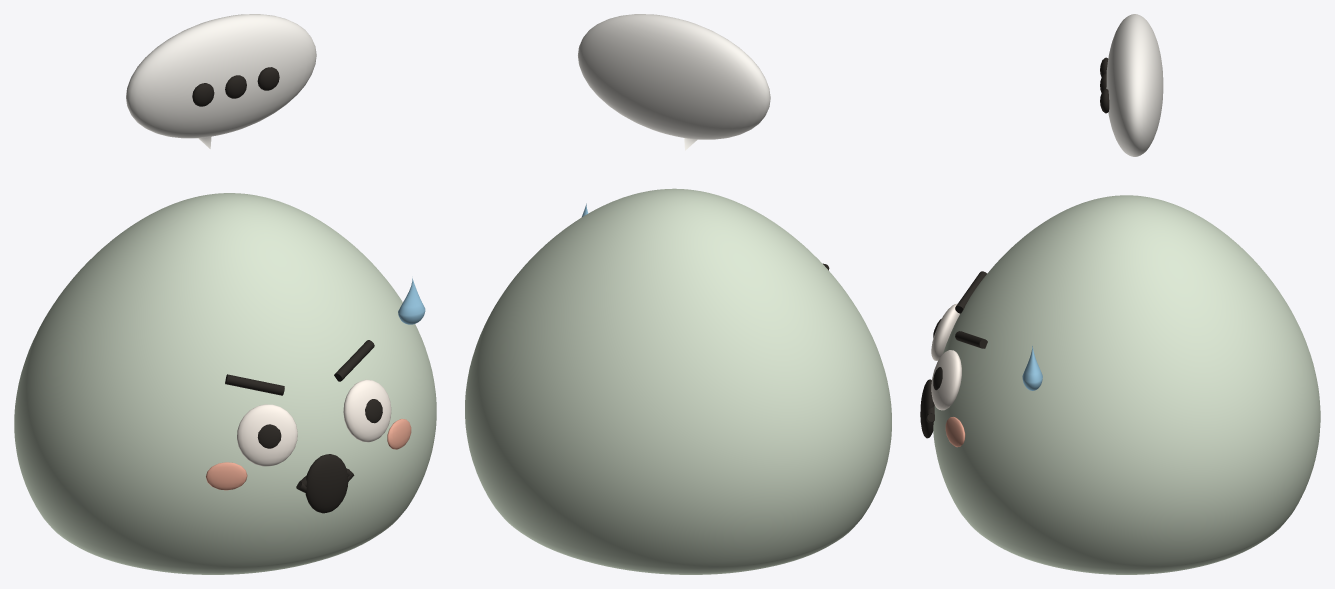
The model's file is Messages.glb.
3 renders of one model, left to right at view 1: azimuth 30°, elevation 25°; view 2: azimuth 150°, elevation 25°; view 3: azimuth 270°, elevation 25°, orthographic. The views are drawn at different scales.
Visible parts, largest first — view 1: Messages_Body, Messages_Bubble, Messages_EyeWide_L, Messages_EyeWide_R, Messages_MouthOpen, Messages_Cheek_L, Messages_Sweat, Messages_Brow_L, Messages_Cheek_R; view 2: Messages_Body, Messages_Bubble; view 3: Messages_Body, Messages_Bubble, Messages_EyeWide_R, Messages_EyeWide_L, Messages_MouthOpen, Messages_Sweat.
Part boxes in pixels (x1=…): Messages_Body: x1=14, y1=193, x2=436, y2=574; Messages_Bubble: x1=126, y1=14, x2=316, y2=138; Messages_EyeWide_L: x1=237, y1=404, x2=297, y2=466; Messages_EyeWide_R: x1=343, y1=379, x2=391, y2=442; Messages_MouthOpen: x1=305, y1=454, x2=348, y2=513; Messages_Cheek_L: x1=206, y1=462, x2=247, y2=490; Messages_Sweat: x1=398, y1=278, x2=425, y2=324; Messages_Brow_L: x1=225, y1=374, x2=284, y2=395; Messages_Cheek_R: x1=387, y1=419, x2=411, y2=449; Messages_Body: x1=465, y1=188, x2=891, y2=574; Messages_Bubble: x1=578, y1=14, x2=770, y2=139; Messages_Body: x1=933, y1=195, x2=1320, y2=574; Messages_Bubble: x1=1106, y1=14, x2=1163, y2=156; Messages_EyeWide_R: x1=931, y1=350, x2=961, y2=410; Messages_EyeWide_L: x1=931, y1=303, x2=959, y2=360; Messages_MouthOpen: x1=920, y1=379, x2=934, y2=438; Messages_Sweat: x1=1022, y1=346, x2=1042, y2=390.
Size of the model in its own units: 0.072 by 0.0936 by 0.0684.
